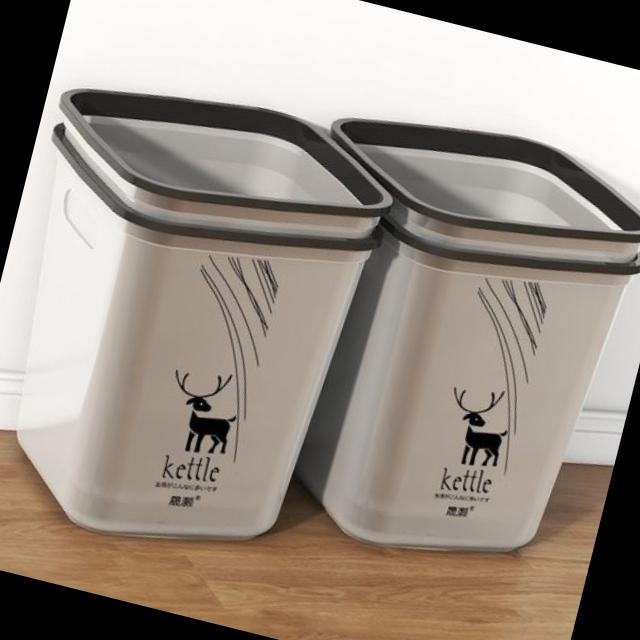dustbin: (0, 50, 409, 583), (234, 88, 640, 607)
